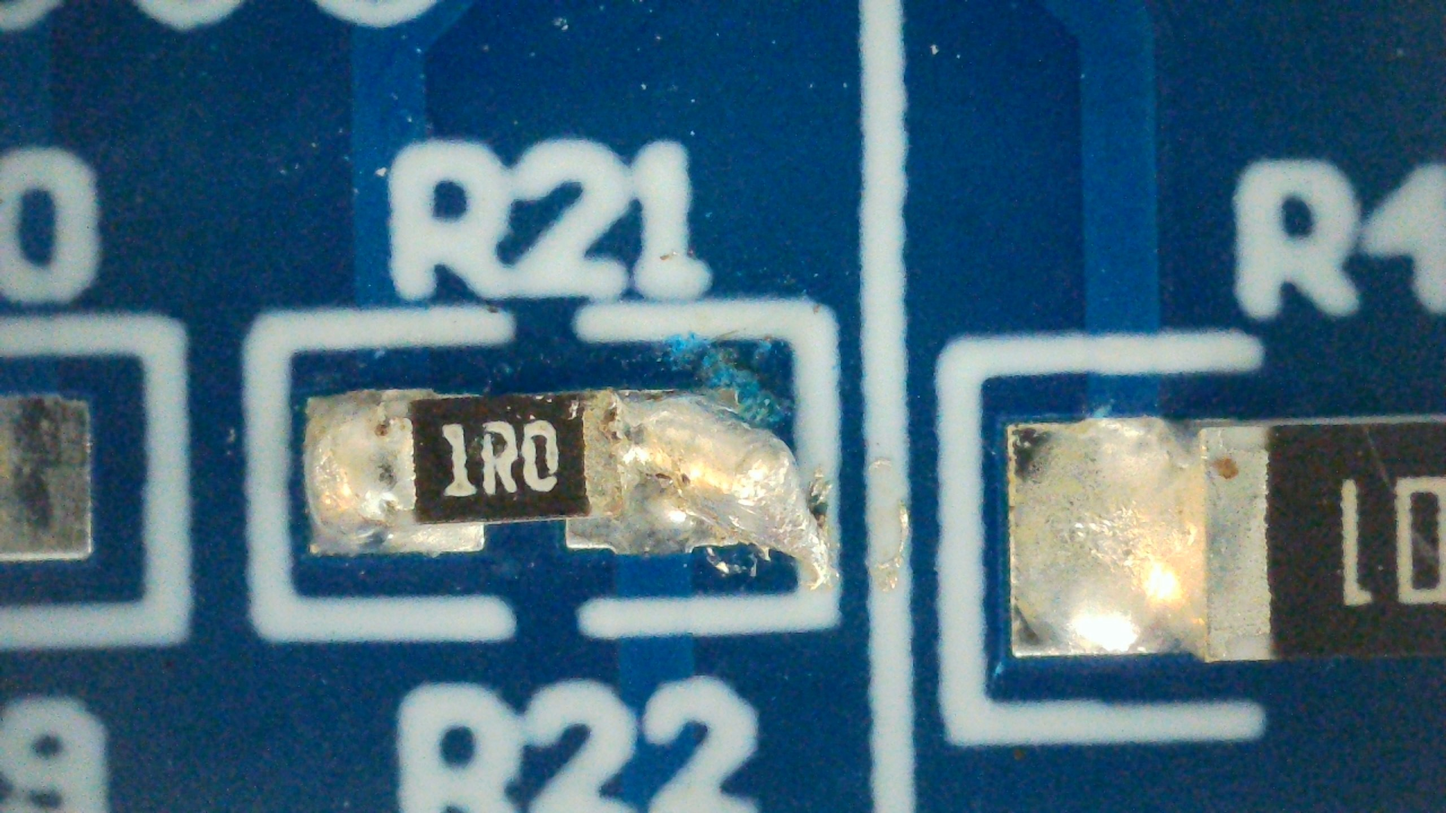OK: (310, 391, 830, 590)
